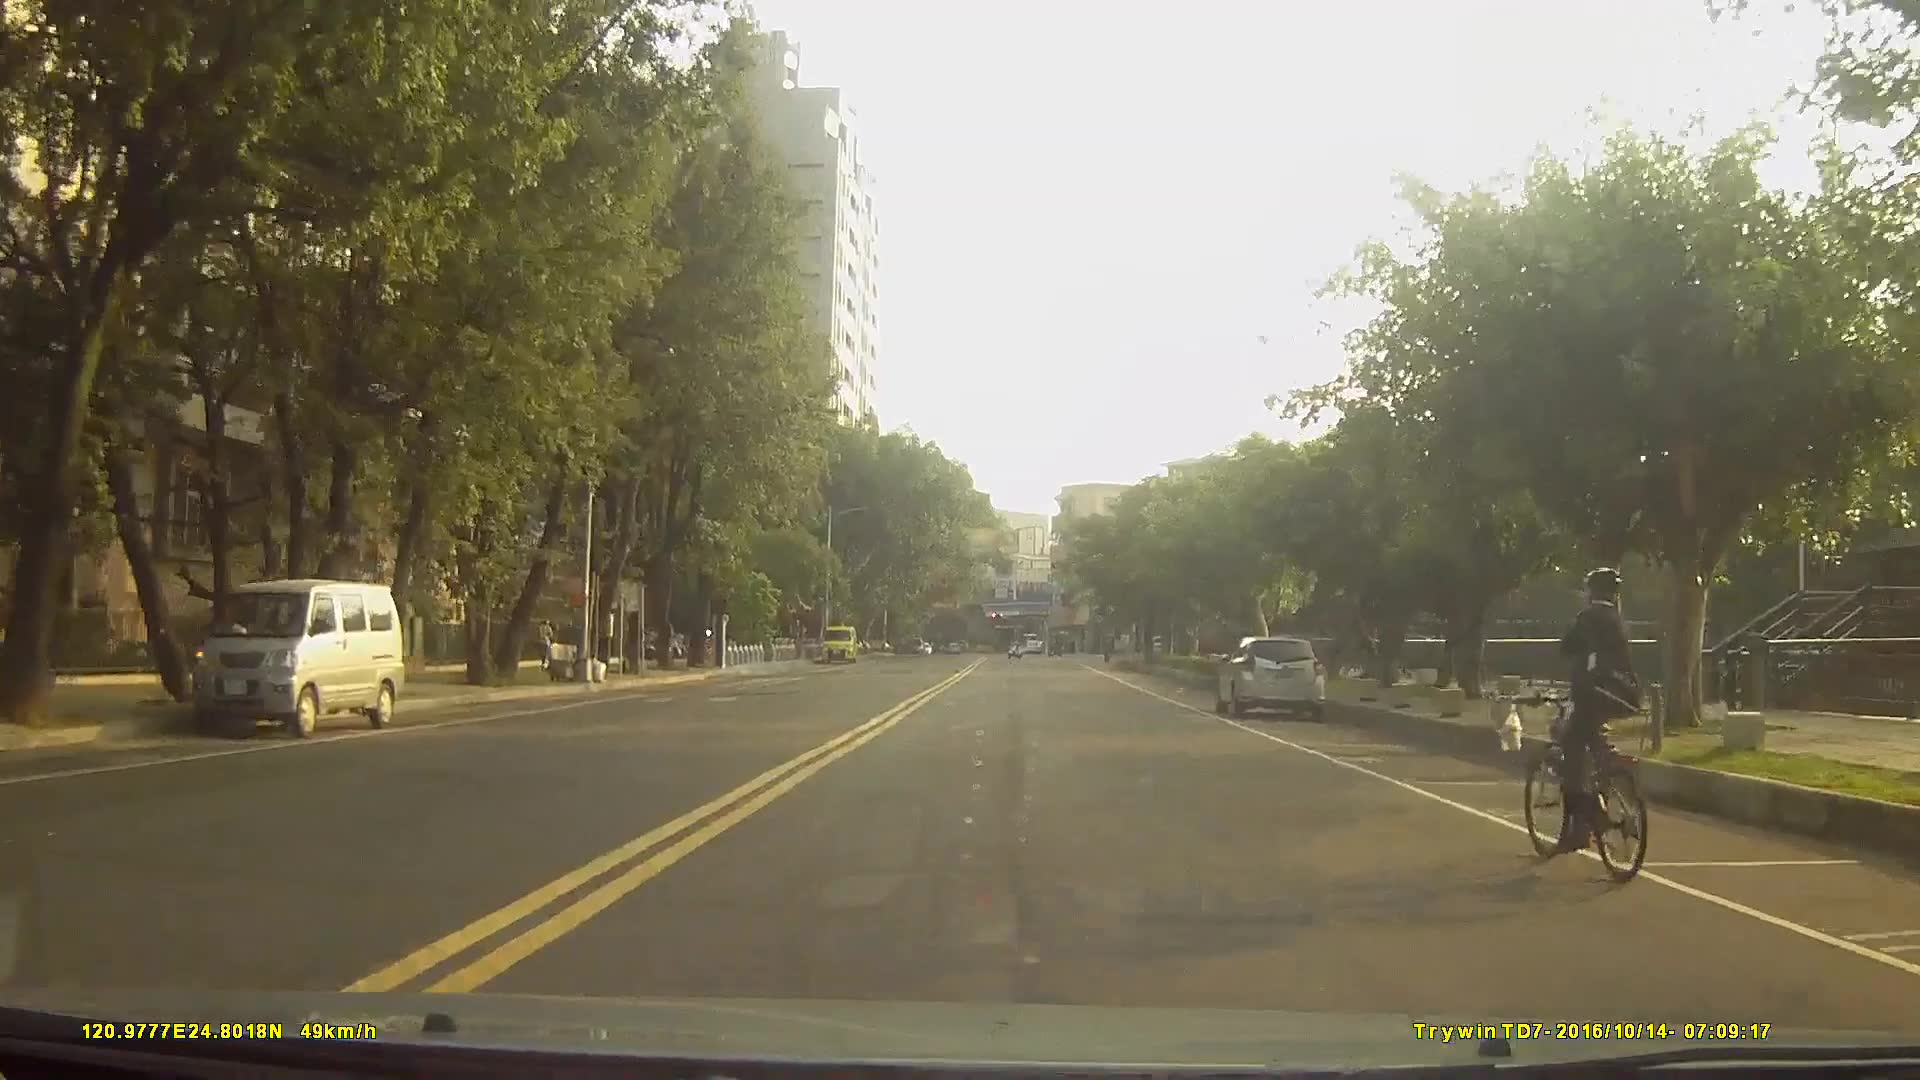rider: (1521, 561, 1656, 888)
vehicle: (183, 575, 406, 738), (1215, 629, 1329, 716), (1017, 631, 1044, 656)
